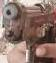gun: (1, 1, 56, 63)
